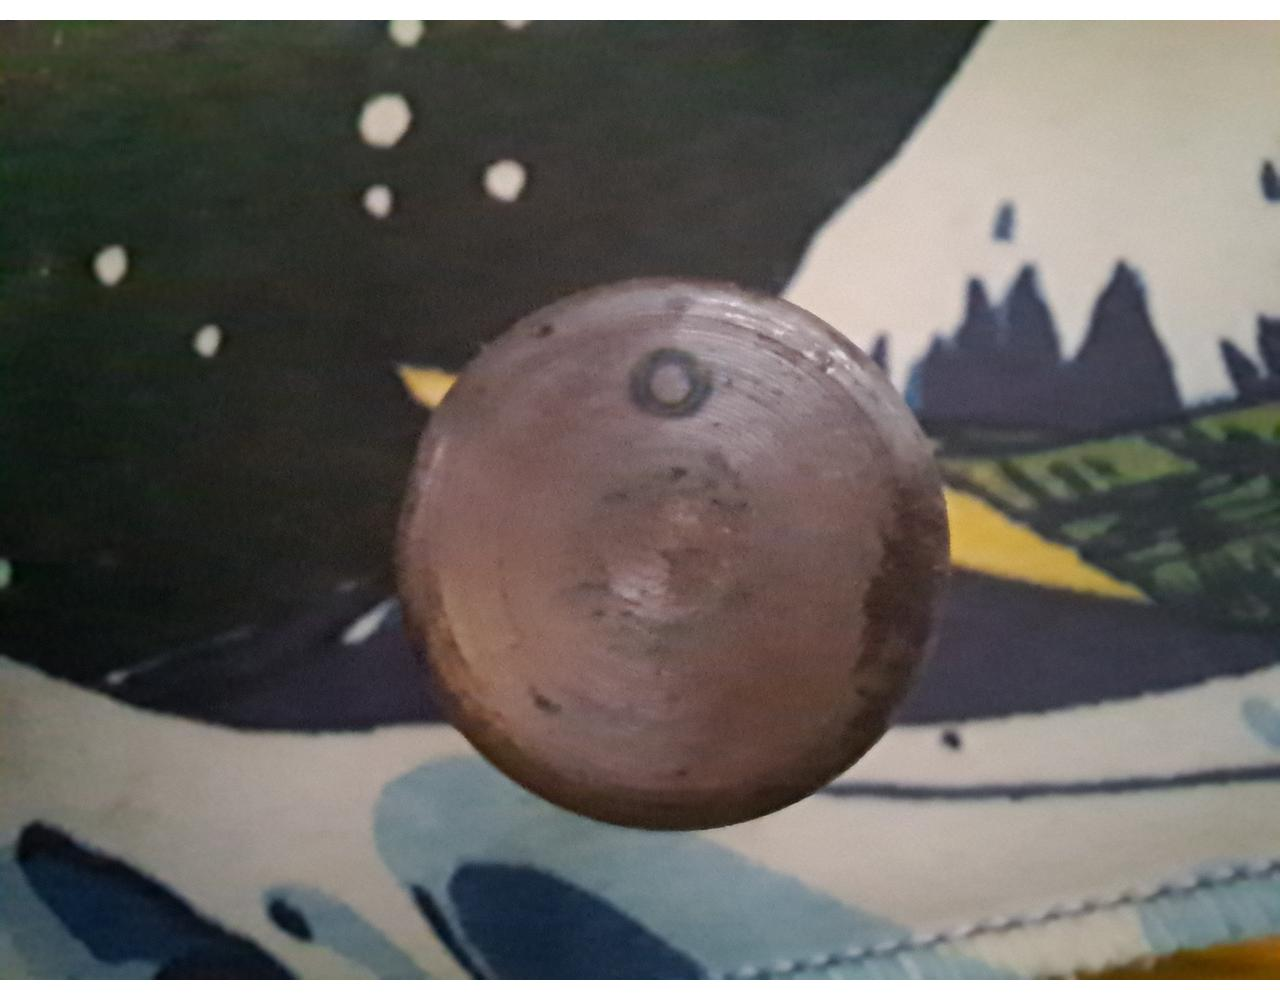defect: (622, 337, 729, 428)
planson: (389, 279, 956, 840)
